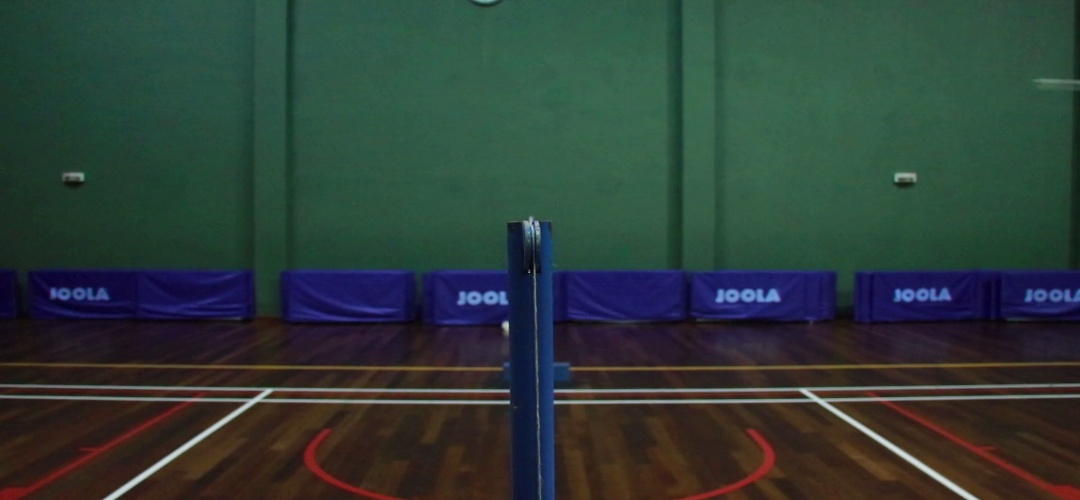c1: (238, 395, 278, 411)
c2: (797, 394, 841, 410)
net_level: (505, 219, 554, 290)
shuttle: (1033, 75, 1080, 95)
